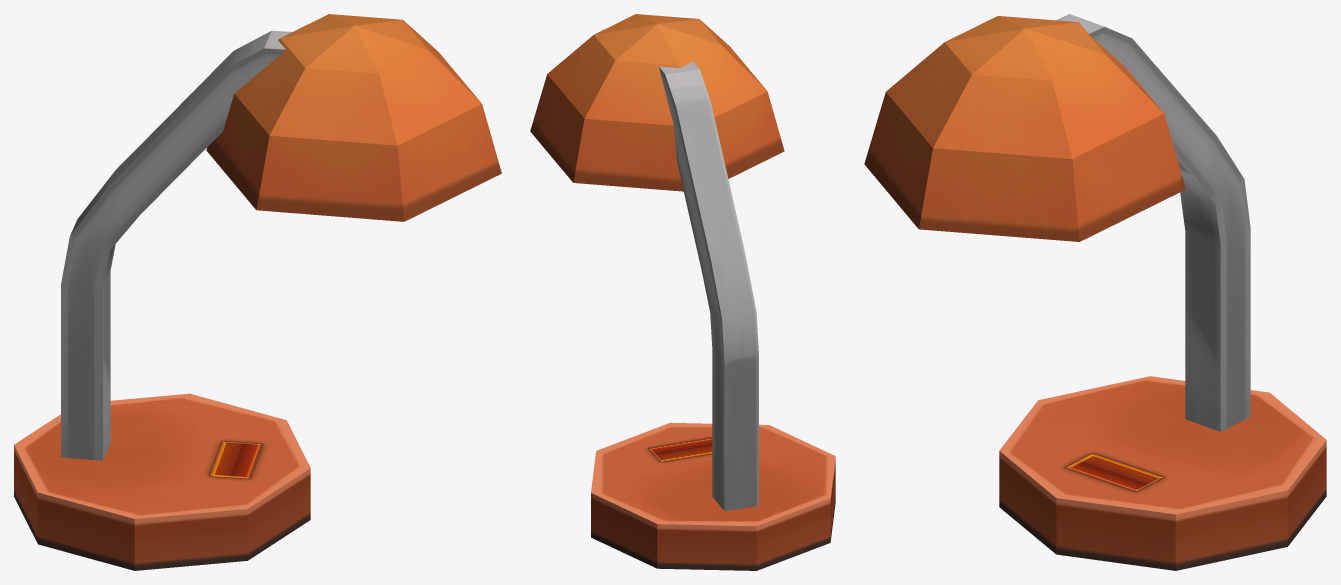
The model's file is desk_acc1.fbx.
3 renders of one model, left to right at view 1: azimuth 30°, elevation 25°; view 2: azimuth 150°, elevation 25°; view 3: azimuth 270°, elevation 25°, orthographic. The views are drawn at different scales.
Visible parts, largest first — view 1: desk_acc1; view 2: desk_acc1; view 3: desk_acc1.
Boxes of the visible parts, <box> form: desk_acc1: <box>14,14,501,570</box>; desk_acc1: <box>530,14,835,570</box>; desk_acc1: <box>864,14,1326,570</box>.
Size of the model in its own units: 2.93 by 3.65 by 2.83.
